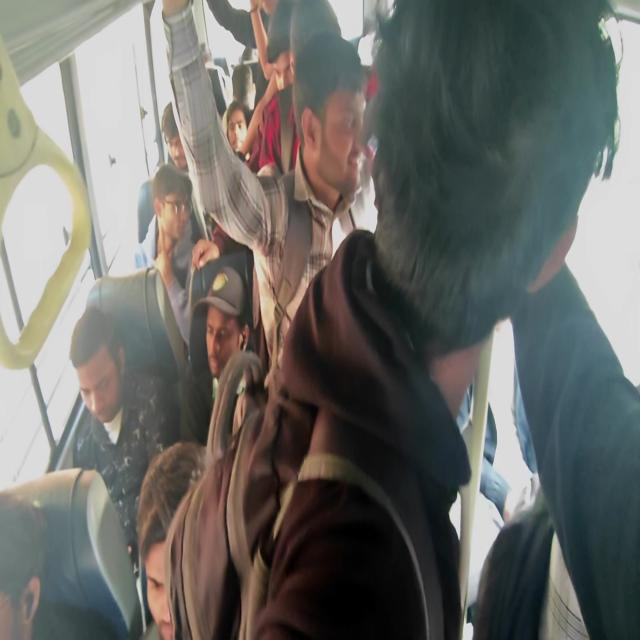person: (246, 0, 639, 638), (160, 0, 368, 385), (69, 304, 181, 631), (136, 440, 207, 638), (185, 261, 261, 444), (135, 164, 197, 351), (237, 1, 300, 177), (0, 496, 48, 639), (161, 101, 189, 173), (224, 100, 250, 156)
